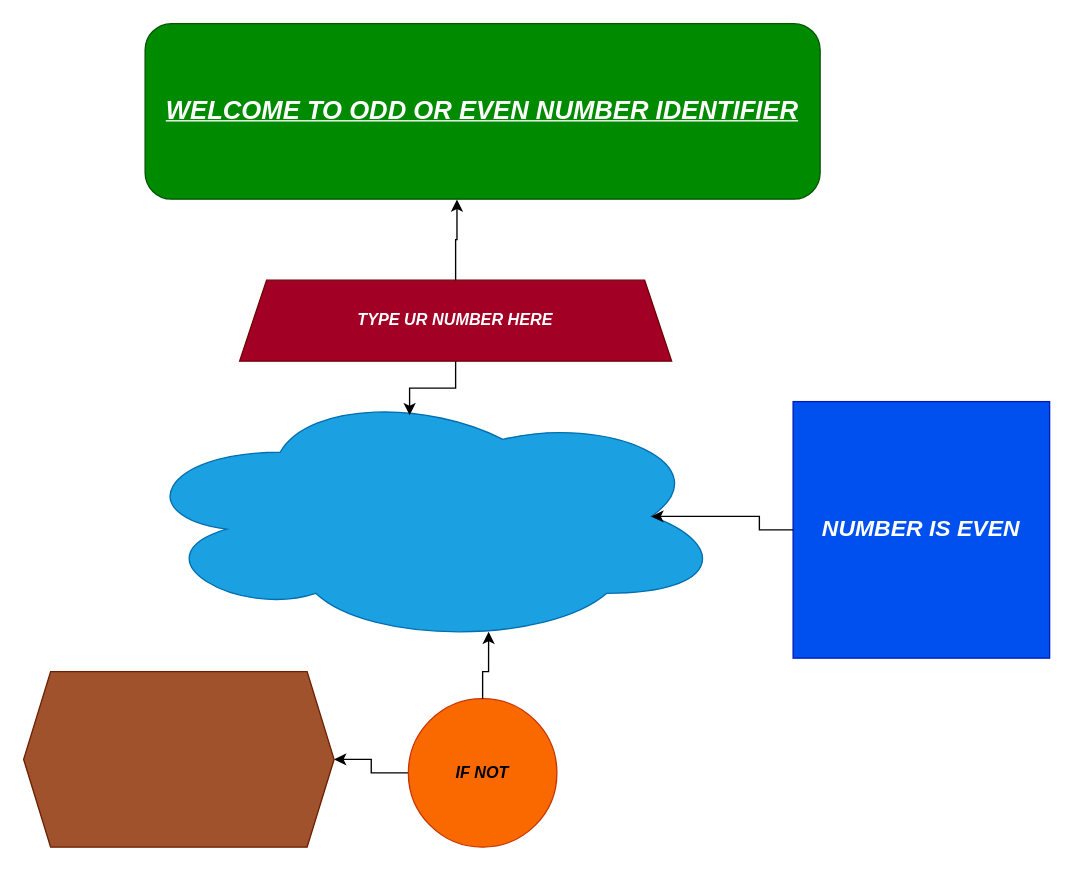
Image size: 1073x871. Some labels were removed from this diagram. The centre of each missing label's shape, as x and y in pixels:
"IF NUMBER IS DIVISIBLE BY 2 AND THE REMINDER IS 0" goes at pixel 428 516.
"THE THE NUMBER IS ODD" goes at pixel 178 758.
